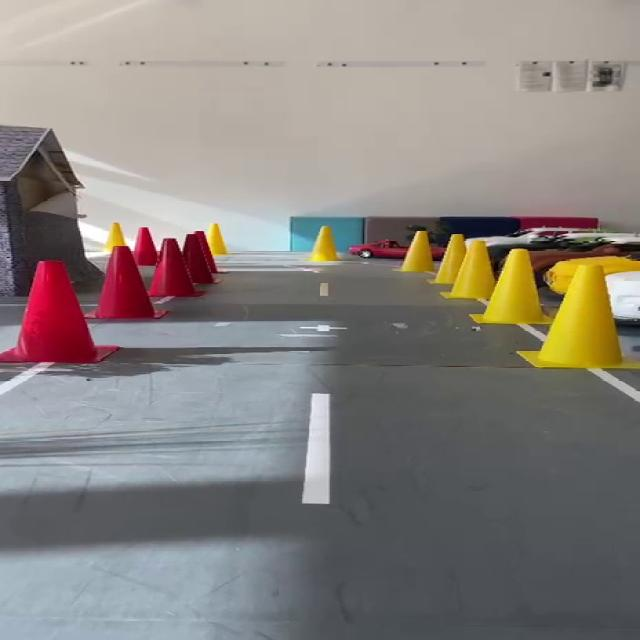Cone-red: (0, 262, 119, 362), (90, 245, 166, 318), (150, 238, 199, 297), (183, 233, 212, 285), (132, 228, 156, 266)
Cones-yellow: (519, 261, 639, 368), (470, 251, 548, 324), (443, 239, 495, 302), (429, 235, 465, 285), (400, 230, 434, 272), (310, 226, 338, 261), (207, 224, 228, 255)
